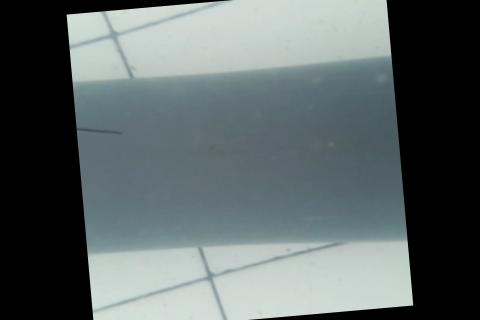keretakan: (76, 122, 126, 141)
